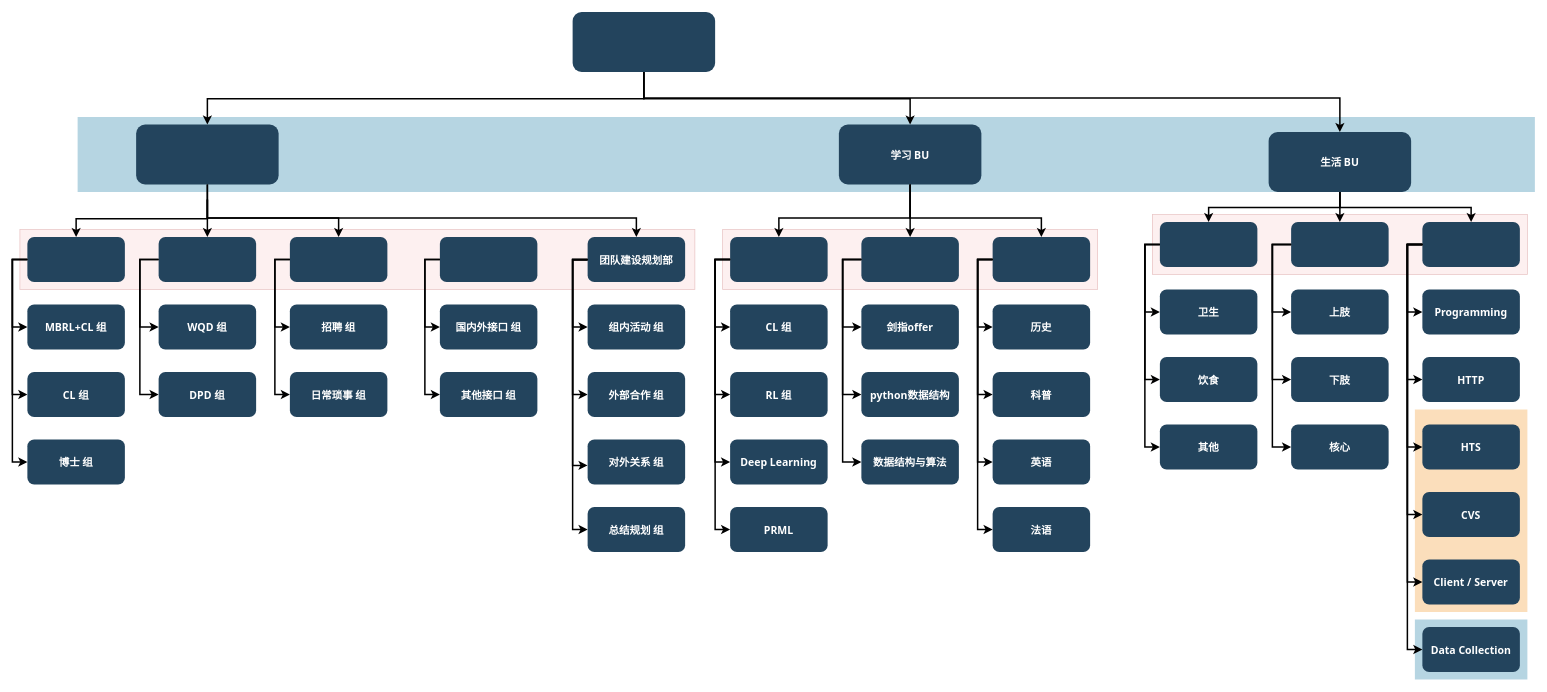
Image size: 1547x692. Some labels were removed from this diagram. The shapes that lost their labels are listed below. From the top down, each one's centre as x and y in pixels, then its label:
(643,42): Head of Development
(207,154): 工作 BU
(75,259): 科研 部
(207,259): 项目 部
(338,259): 公共服务 部
(488,259): 接口 部
(778,259): AI 基础 部
(909,259): 计算机基础 部
(1041,259): 兴趣语言 部
(1208,244): 后勤 部
(1339,244): 健身 部
(1471,244): XMI
